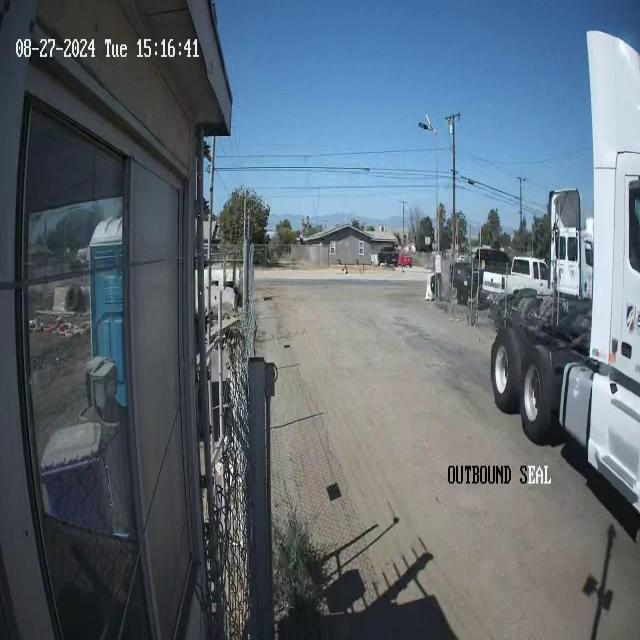TRUCK_IN: (489, 35, 640, 511)
